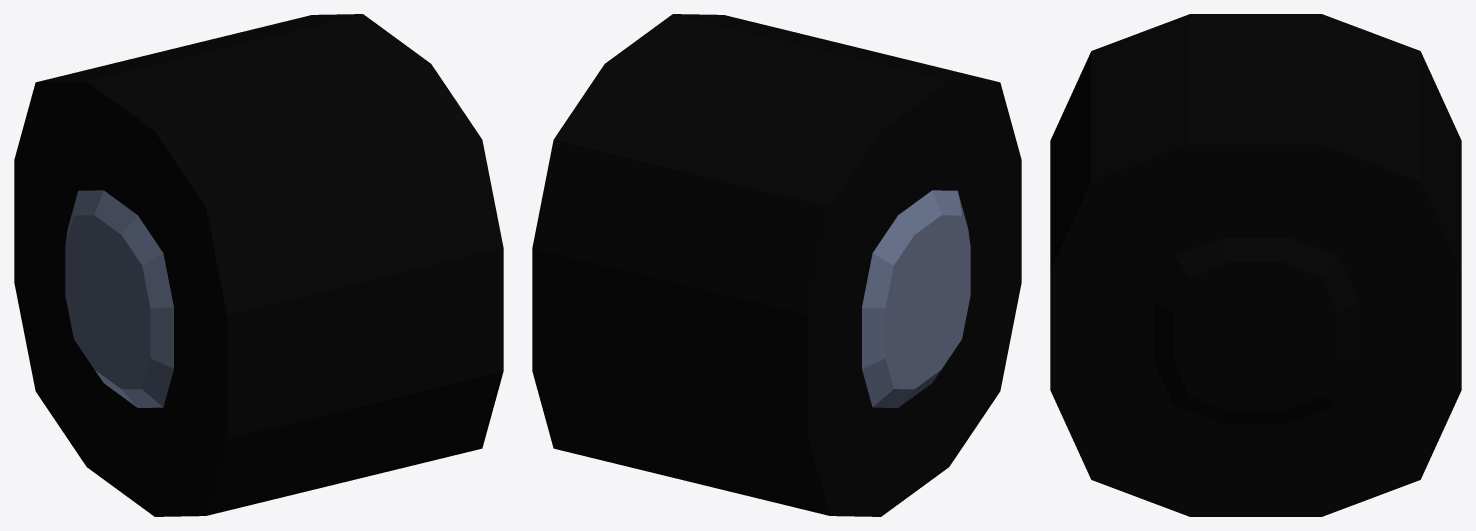
Rendered from rueda simple.glb.
3 views of the same model, side by side, from view 1: azimuth 30°, elevation 25°; view 2: azimuth 150°, elevation 25°; view 3: azimuth 270°, elevation 25° (orthographic). The views are drawn at different scales.
Visible parts, largest first — view 1: rueda, tapa-cubos; view 2: rueda, tapa-cubos; view 3: rueda, tapa-cubos2.
Part boxes in pixels (box(x1,y1,x2,y2)): rueda: box(14, 14, 503, 516); tapa-cubos: box(65, 190, 173, 407); rueda: box(532, 14, 1021, 516); tapa-cubos: box(862, 190, 970, 407); rueda: box(1050, 14, 1461, 516); tapa-cubos2: box(1153, 237, 1358, 423).
Size of the model in its own units: 1.64 by 2 by 2.
Materials: 3 (3 with a texture image).
